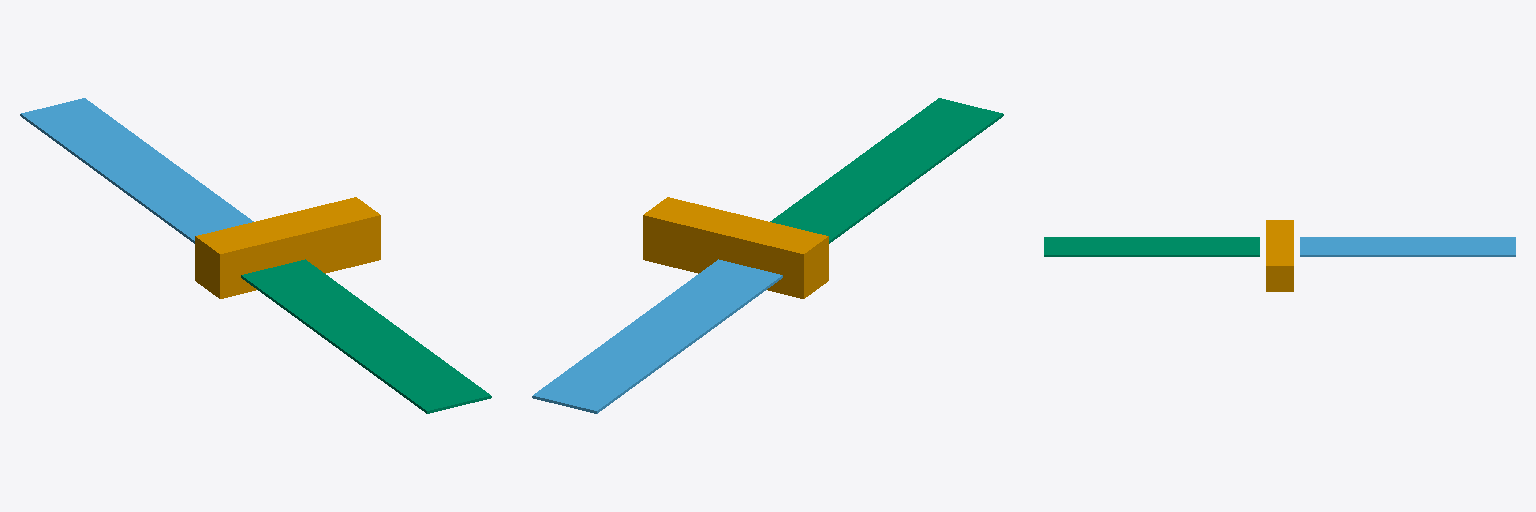
robot.urdf — ideal_coupled_wings:
<?xml version="1.0"?>
<robot name="ideal_coupled_wings">
  <link name="base_link">
    <inertial>
      <origin xyz="-0.13103 -0.00625 0.01500" rpy="0 0 0"/>
      <mass value="0.78261"/>
      <inertia
        ixx="0.003083333333333333"
        ixy="0"
        ixz="0"
        iyy="0.023056666666666667"
        iyz="0"
        izz="0.019973333333333333"
      />
    </inertial>
    <visual>
      <geometry>
        <box size="0.30 0.08 0.08"/>
      </geometry>
    </visual>
  </link>

  <link name="left_wing">
    <inertial>
      <origin xyz="-0.06040 0.29394 0" rpy="0 0 0"/>
      <mass value="0.06077"/>
      <inertia ixx="0.00270" ixy="0" ixz="0" iyy="0.00101" iyz="0" izz="0.00371"/>
    </inertial>
    <visual>
      <origin xyz="-0.06 0.30 0" rpy="0 0 0"/>
      <geometry>
        <box size="0.12 0.60 0.005"/>
      </geometry>
    </visual>
  </link>
  <joint name="left_wing" type="revolute">
    <origin xyz="0 0.056 0" rpy="0 0 0"/>
    <parent link="base_link"/>
    <child link="left_wing"/>
    <axis xyz="1 0 0"/>
    <limit lower="-0.55" upper="0.55" effort="100" velocity="200"/>
  </joint>

  <link name="right_wing">
    <inertial>
      <origin xyz="-0.06040 -0.29394 0" rpy="0 0 0"/>
      <mass value="0.06077"/>
      <inertia ixx="0.00270" ixy="0" ixz="0" iyy="0.00101" iyz="0" izz="0.00371"/>
    </inertial>
    <visual>
      <origin xyz="-0.06 -0.30 0" rpy="0 0 0"/>
      <geometry>
        <box size="0.12 0.60 0.005"/>
      </geometry>
    </visual>
  </link>
  <joint name="right_wing" type="revolute">
    <origin xyz="0 -0.056 0" rpy="0 0 0"/>
    <parent link="base_link"/>
    <child link="right_wing"/>
    <axis xyz="1 0 0"/>
    <limit lower="-0.55" upper="0.55" effort="100" velocity="200"/>
    <mimic joint="left_wing" multiplier="-1" offset="0"/>
  </joint>
</robot>

--- Facts derived from the render (not from the file) ---
3 views of the same robot in one strip: view 1: azimuth 30°, elevation 25°; view 2: azimuth 150°, elevation 25°; view 3: azimuth 270°, elevation 25° (orthographic).
Model ideal_coupled_wings with 3 links and 2 joints (2 revolute), rooted at base_link, posed all joints at 0.
Links seen in each view (by area): view 1: right_wing, left_wing, base_link; view 2: left_wing, right_wing, base_link; view 3: left_wing, right_wing, base_link.
Link boxes in pixels (left/top/right/bottom): right_wing: left=241, top=259, right=491, bottom=413; left_wing: left=20, top=98, right=253, bottom=243; base_link: left=195, top=197, right=380, bottom=298; left_wing: left=532, top=259, right=782, bottom=413; right_wing: left=770, top=98, right=1003, bottom=243; base_link: left=643, top=197, right=828, bottom=298; left_wing: left=1300, top=237, right=1515, bottom=256; right_wing: left=1044, top=237, right=1259, bottom=256; base_link: left=1266, top=220, right=1293, bottom=291.
Size in the robot's own frame: 0.3 by 1.31 by 0.08 metres.
Geometry: primitives only (box / cylinder / sphere), no mesh files.
